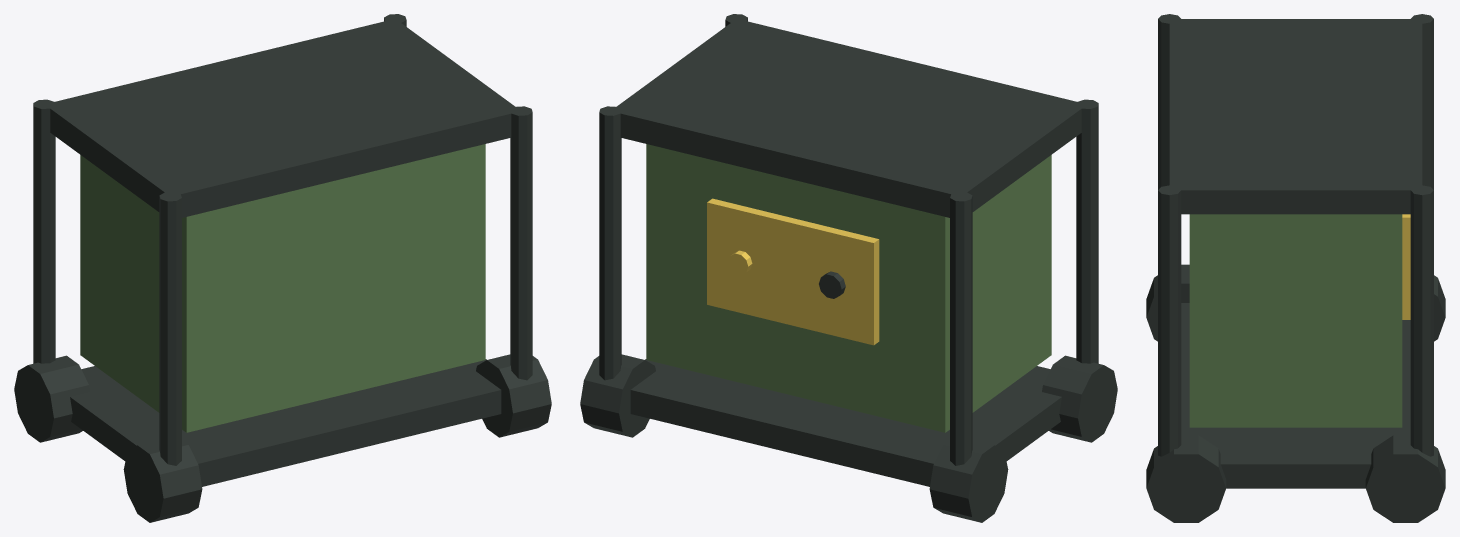
Rendered from HomebaseGenerator_LOD00.gltf.
The picture shows the model from 3 angles, left to right: view 1: azimuth 30°, elevation 25°; view 2: azimuth 150°, elevation 25°; view 3: azimuth 270°, elevation 25°; orthographic projection.
Visible parts, largest first — view 1: HomebaseGenerator_node; view 2: HomebaseGenerator_node; view 3: HomebaseGenerator_node.
Part boxes in pixels (x1=…): HomebaseGenerator_node: x1=14, y1=14, x2=551, y2=522; HomebaseGenerator_node: x1=580, y1=14, x2=1117, y2=522; HomebaseGenerator_node: x1=1146, y1=14, x2=1445, y2=522.
Bounding box in the file's own units: 1.35 × 1.07 × 0.9.
